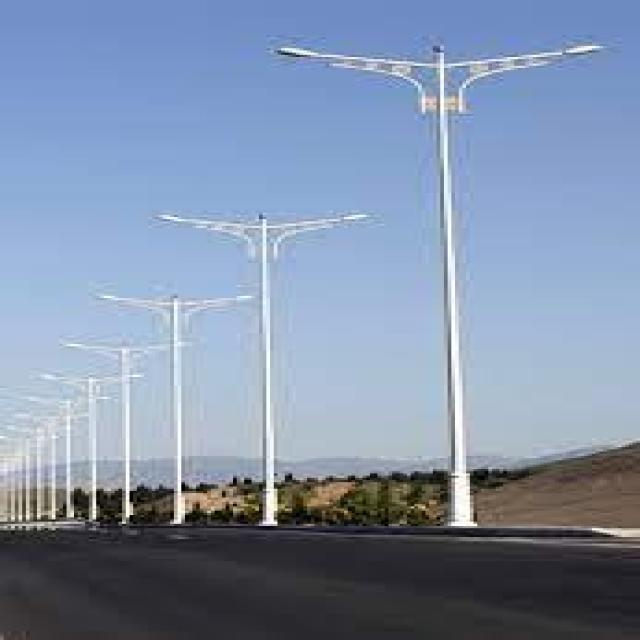pole: (413, 209, 511, 541), (251, 307, 307, 530)
